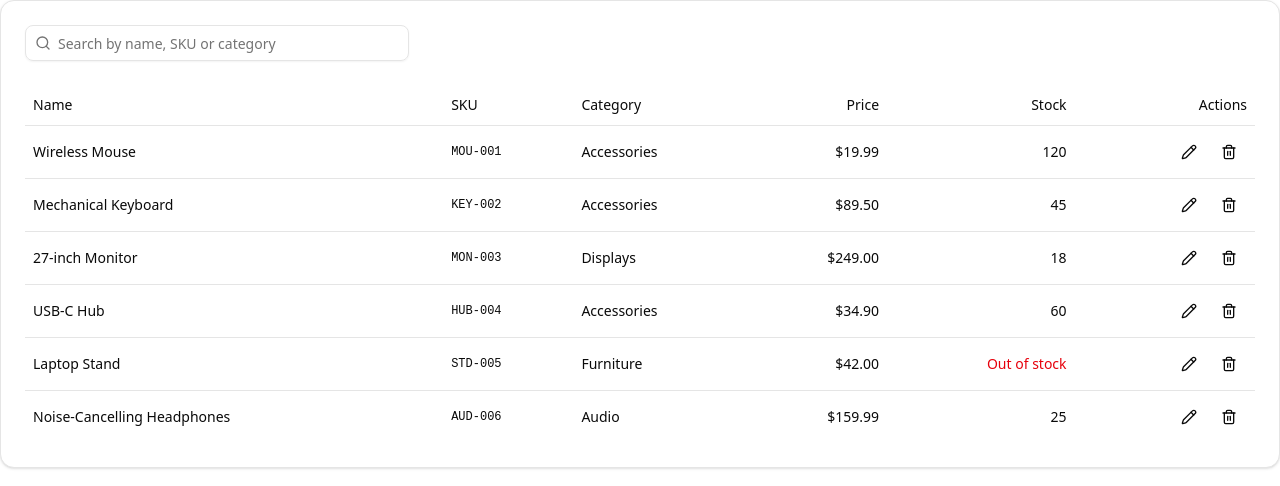
<ProductsTable /> › busca con el caso de uso search-products (con debounce)
Step 1. Type "audio" into the search field named "Search products" → (217, 43), box x1=25 y1=25 x2=409 y2=61
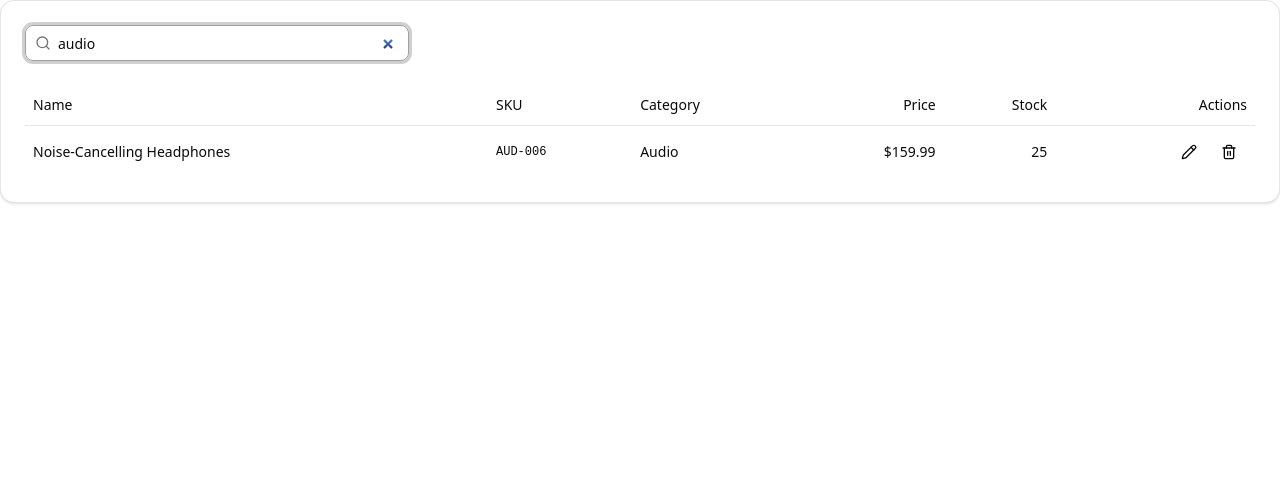
Check: the text "Noise-Cancelling Headphones" is shown, box x1=25 y1=125 x2=488 y2=178
Check: the text "Wireless Mouse" is gone
